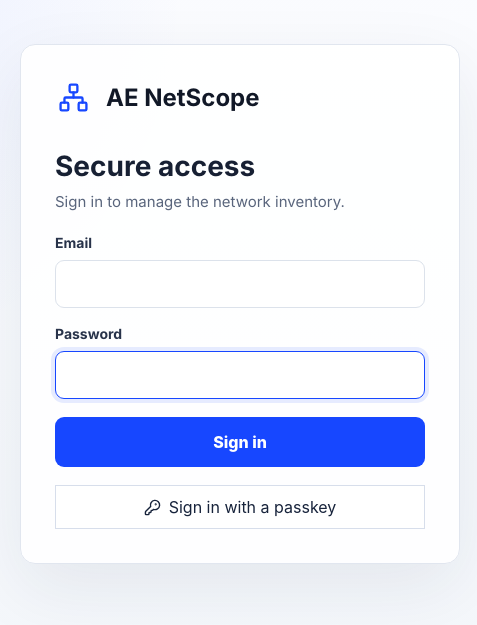
Test case: LoginScreen › shows invalid credentials and locked account errors
In the field labelled "Email": (240, 284) [55,260,425,308], type "admin@example.com"
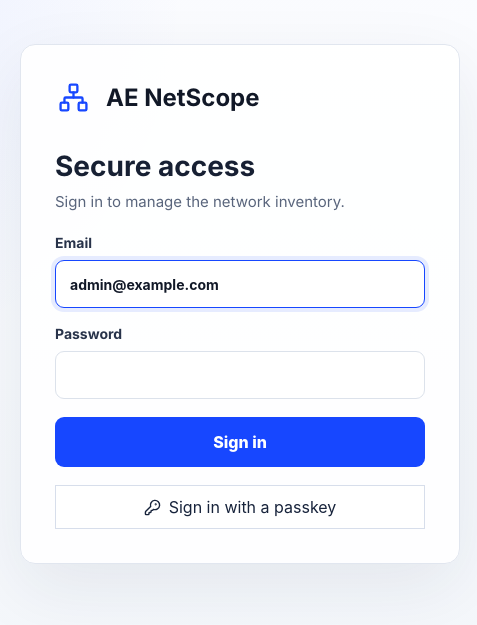
In the password field labelled "Password": (240, 375) [55,351,425,399], type "wrong-password"
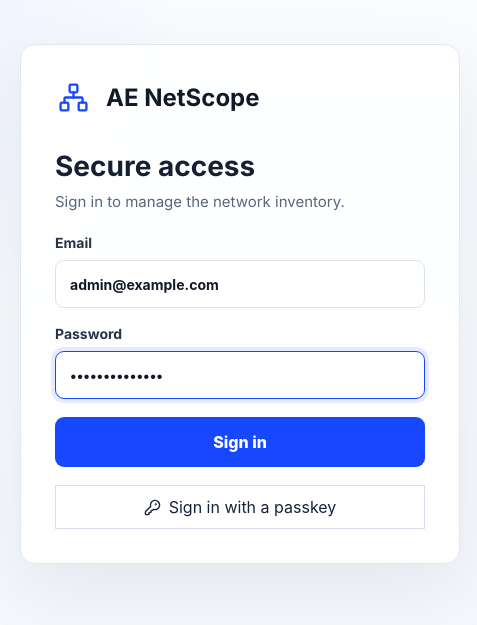
Click the button "Sign in": (240, 442) [55,417,425,467]
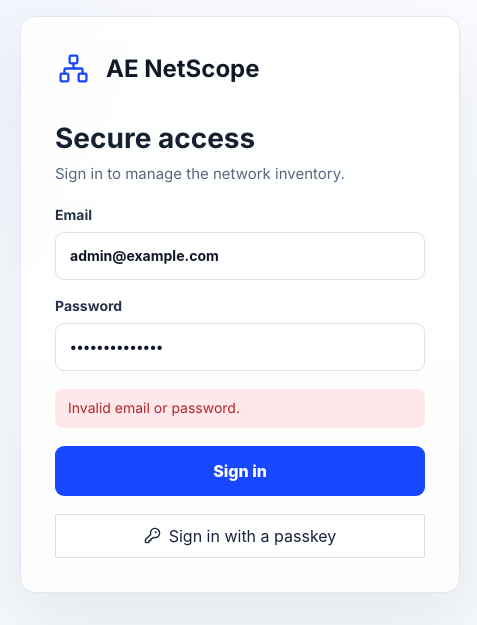
Now the text "Invalid email or password." is shown, box [55,388,425,428]
Click the button "Sign in": (240, 470) [55,446,425,496]
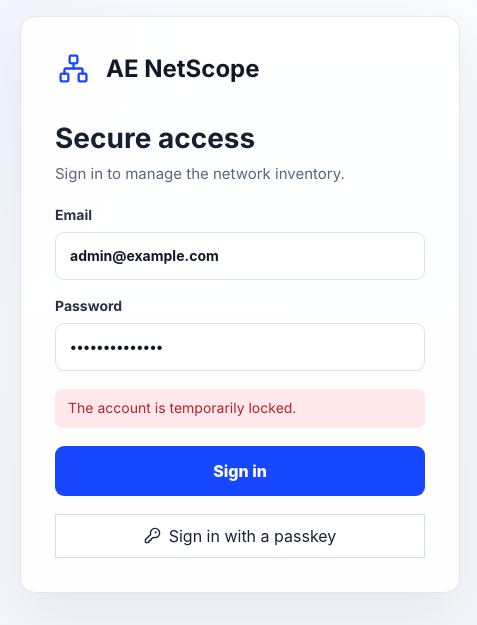
Now the text "The account is temporarily locked." is shown, box [55,388,425,428]
